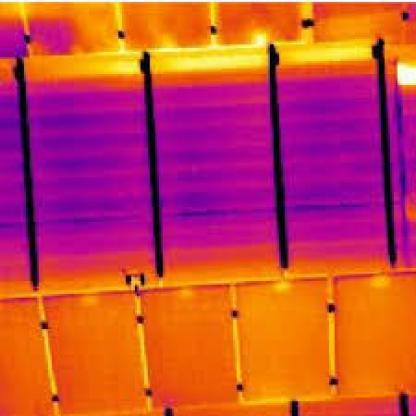Defects: (284, 48, 372, 65), (68, 56, 137, 77), (155, 56, 252, 68), (396, 57, 412, 89)
